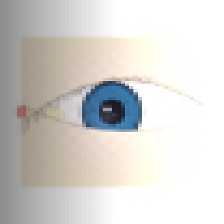pinguecula_lesion: (27, 94, 76, 133)
